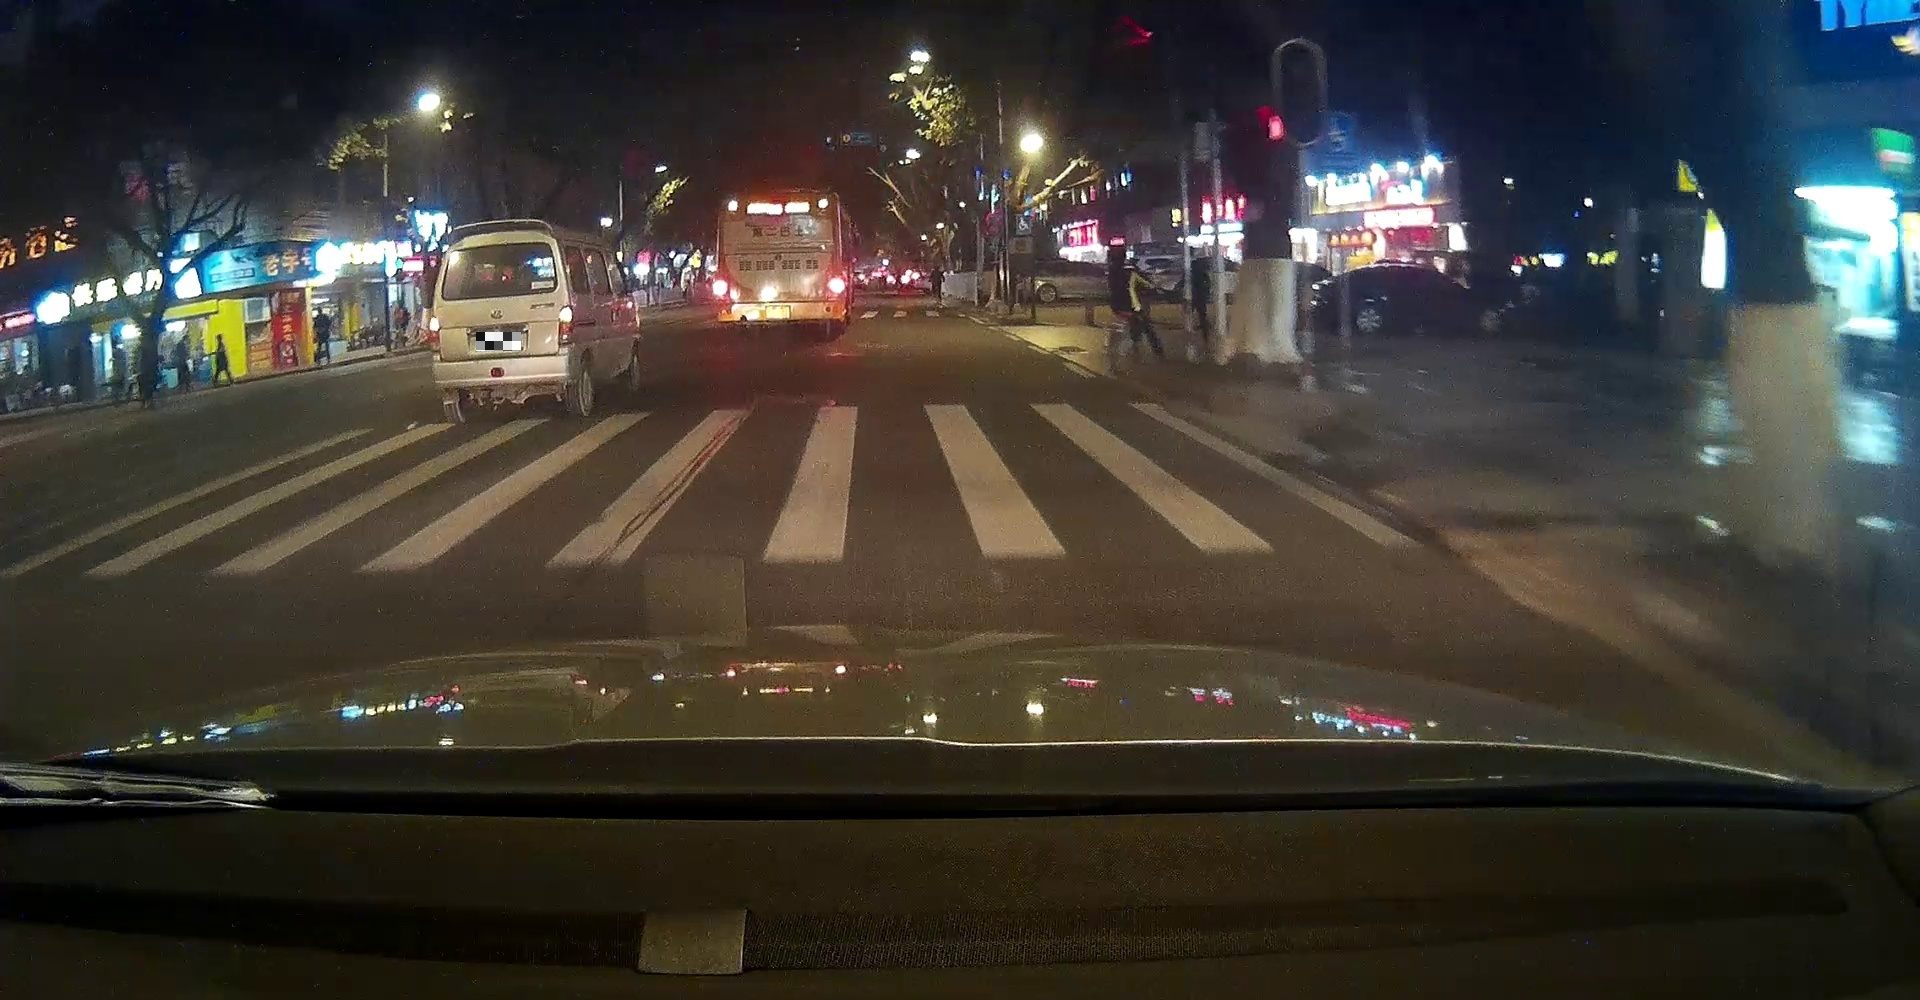L_light: (712, 275, 729, 306), (428, 316, 439, 353)
R_light: (557, 305, 573, 346), (827, 274, 844, 301)
T_light: (483, 244, 507, 249), (771, 193, 789, 195)
night-no: (428, 218, 575, 423), (712, 187, 844, 339)
plate_1: (476, 332, 521, 352)
